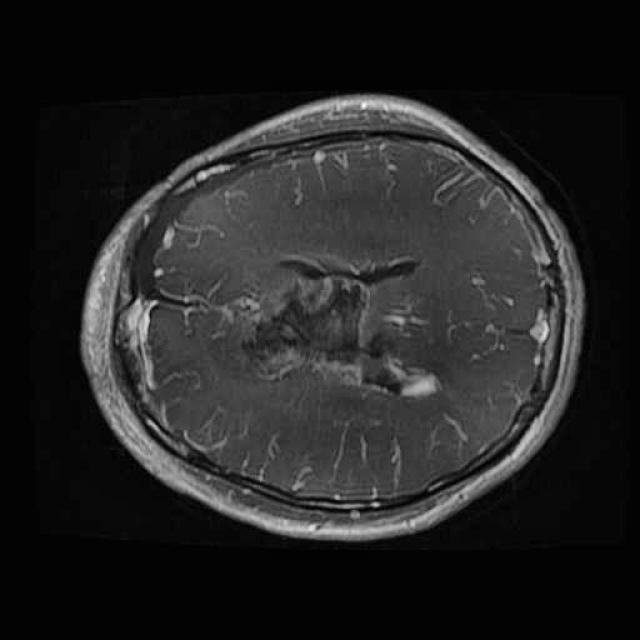Non-Tumor: (234, 262, 394, 399)
